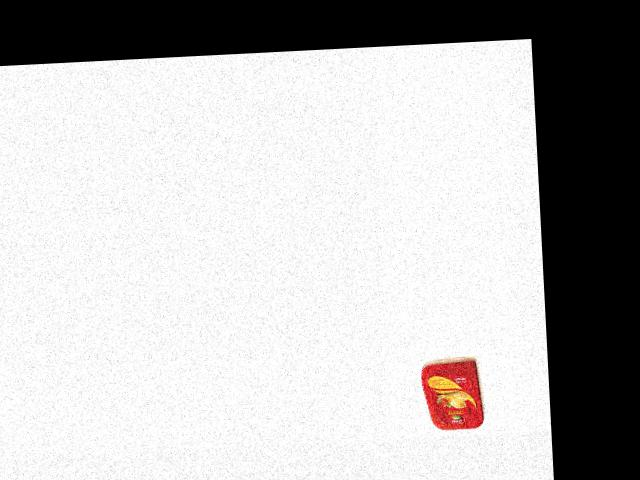cheese: (420, 356, 486, 435)
